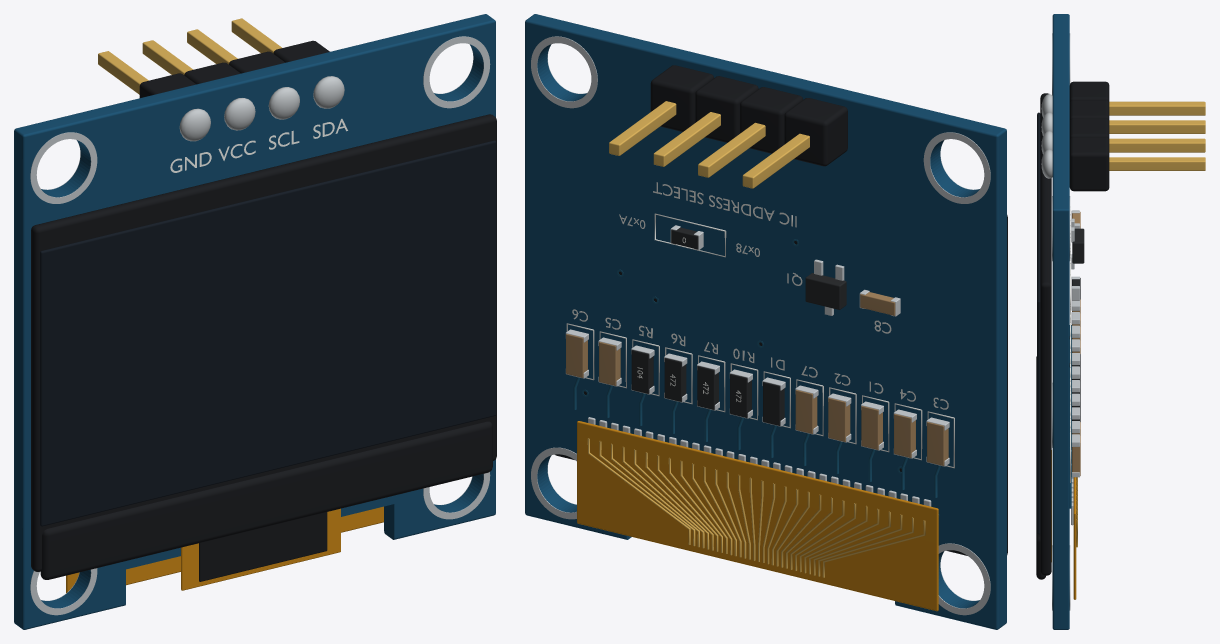
3 views of the same model, side by side, from view 1: azimuth 30°, elevation 25°; view 2: azimuth 150°, elevation 25°; view 3: azimuth 270°, elevation 25° (orthographic). The views are drawn at different scales.
Visible parts, largest first — view 1: Display glass, OLED PCB, Bottom driver seal, Glass substrate, Flex black backing, Flex front, Folded FPC ribbon, Plated mounting hole.003, Plated mounting hole.007, Square pin, Square pin.003, Square pin.001 (+11 smaller); view 2: OLED PCB, Folded FPC ribbon, Header insulator, Header insulator.003, Header insulator.001, Header insulator.002, Plated mounting hole.002, Plated mounting hole.006, Square pin, Square pin.001, Square pin.003, Square pin.002 (+16 smaller); view 3: OLED PCB, Glass substrate, Header insulator.003, Display glass, Square pin, Square pin.002, Square pin.001, Square pin.003, Header insulator.001, Header insulator.002, Header insulator, Folded FPC ribbon (+3 smaller).
Boxes of the visible parts, box(x1,y1,x2,y2) form: Display glass: box(40, 140, 496, 526); OLED PCB: box(14, 14, 495, 629); Bottom driver seal: box(40, 421, 492, 579); Glass substrate: box(31, 114, 496, 571); Flex black backing: box(199, 512, 327, 581); Flex front: box(181, 508, 340, 590); Folded FPC ribbon: box(66, 506, 383, 592); Plated mounting hole.003: box(30, 132, 97, 203); Plated mounting hole.007: box(423, 36, 490, 108); Square pin: box(98, 51, 148, 94); Square pin.003: box(231, 18, 281, 53); Square pin.001: box(142, 40, 193, 74); OLED PCB: box(525, 14, 1006, 629); Folded FPC ribbon: box(577, 421, 938, 611); Header insulator: box(784, 98, 847, 166); Header insulator.003: box(650, 65, 713, 131); Header insulator.001: box(740, 87, 803, 153); Header insulator.002: box(695, 76, 758, 142); Plated mounting hole.002: box(923, 132, 990, 203); Plated mounting hole.006: box(531, 36, 597, 108); Square pin: box(742, 133, 809, 188); Square pin.001: box(698, 122, 765, 177); Square pin.003: box(609, 101, 676, 155); Square pin.002: box(653, 112, 720, 166); OLED PCB: box(1052, 14, 1069, 629); Glass substrate: box(1040, 93, 1051, 575); Header insulator.003: box(1069, 137, 1109, 191); Display glass: box(1037, 112, 1040, 534); Square pin: box(1109, 101, 1205, 115); Square pin.002: box(1109, 138, 1205, 152); Square pin.001: box(1109, 120, 1205, 133); Square pin.003: box(1109, 157, 1205, 170); Header insulator.001: box(1069, 100, 1109, 121); Header insulator.002: box(1069, 118, 1109, 140); Header insulator: box(1069, 81, 1109, 103); Folded FPC ribbon: box(1073, 477, 1076, 599).
Bounding box in the file's own units: 27 × 27 × 9.85.
